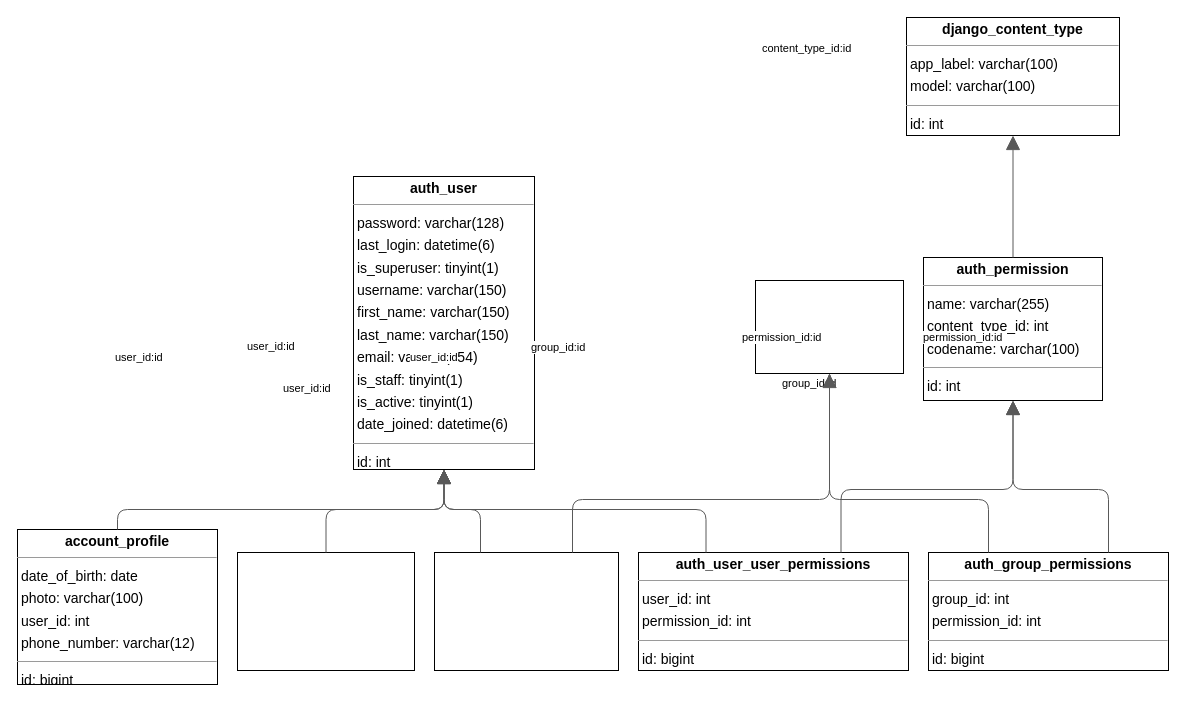
The diagram is 1186 pixels wide and 705 high, and some of its shapes have lost their labels. Here are the shapes that lost their labels. From the top down, the box of each, then its label:
(754, 280, 904, 374): auth_group name: varchar(150) id: int
(236, 552, 414, 670): authtoken_token created: datetime(6) user_id: int key: varchar(40)
(434, 552, 618, 670): auth_user_groups user_id: int group_id: int id: bigint
